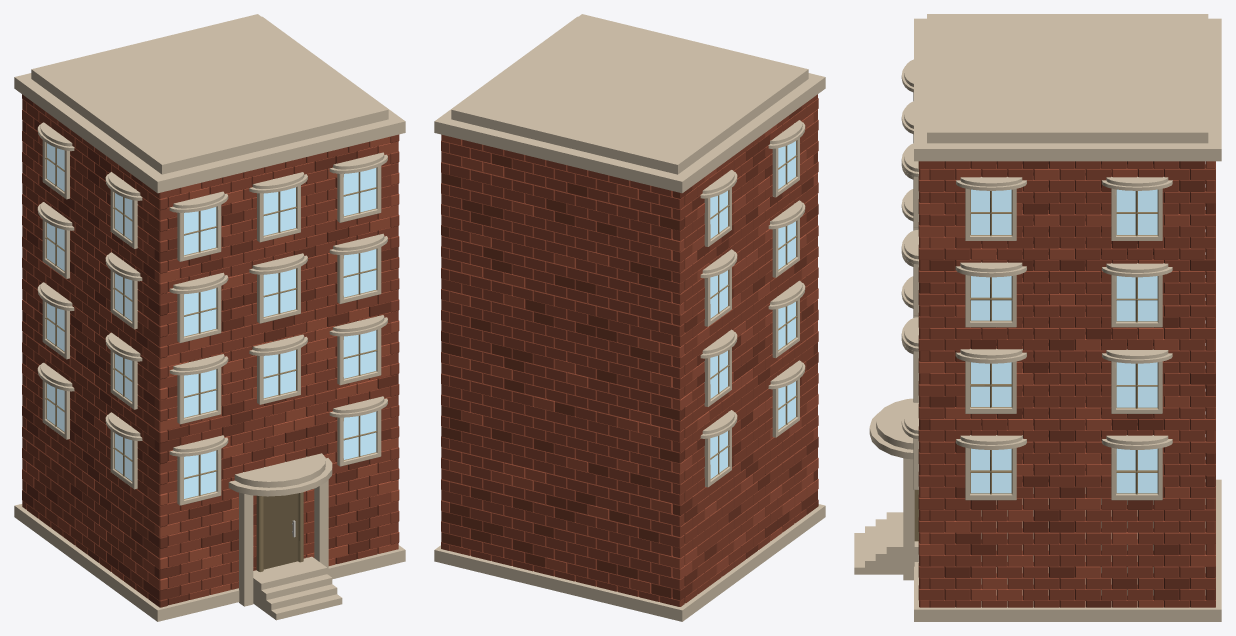
Rendered from predio.glb.
3 views of the same model, side by side, from view 1: azimuth 30°, elevation 25°; view 2: azimuth 150°, elevation 25°; view 3: azimuth 270°, elevation 25° (orthographic). The views are drawn at different scales.
Visible parts, largest first — view 1: pCube1158, pCube1140, polySurface1964, pCube1134, pCube1138, pCylinder5, pCube1142, pCube1145, pCube1151, pCube1143, pCube1147, pCube1148 (+7 smaller); view 2: pCube1140, pCube1158, polySurface1964; view 3: pCube1158, pCube1140, polySurface1947, polySurface1939, polySurface1943, polySurface1949, polySurface1946, polySurface1948, polySurface1950, polySurface1951, pCube1134, polySurface1955 (+9 smaller).
Boxes of the visible parts, left/top/right/bottom form: pCube1158: left=14, top=14, right=405, bottom=618; pCube1140: left=14, top=70, right=405, bottom=621; polySurface1964: left=37, top=122, right=142, bottom=489; pCube1134: left=253, top=556, right=342, bottom=620; pCube1138: left=256, top=492, right=303, bottom=571; pCylinder5: left=228, top=453, right=332, bottom=496; pCube1142: left=169, top=191, right=228, bottom=261; pCube1145: left=169, top=272, right=228, bottom=343; pCube1151: left=169, top=435, right=228, bottom=505; pCube1143: left=329, top=152, right=387, bottom=222; pCube1147: left=329, top=233, right=387, bottom=304; pCube1148: left=169, top=354, right=228, bottom=424; pCube1140: left=434, top=71, right=825, bottom=621; pCube1158: left=434, top=14, right=825, bottom=617; polySurface1964: left=700, top=120, right=805, bottom=487; pCube1158: left=914, top=14, right=1221, bottom=617; pCube1140: left=914, top=133, right=1221, bottom=621; polySurface1947: left=1102, top=263, right=1172, bottom=327; polySurface1939: left=956, top=177, right=1026, bottom=240; polySurface1943: left=1101, top=177, right=1172, bottom=240; polySurface1949: left=1102, top=349, right=1172, bottom=413; polySurface1946: left=955, top=264, right=1026, bottom=327; polySurface1948: left=955, top=350, right=1026, bottom=413; polySurface1950: left=955, top=436, right=1026, bottom=500; polySurface1951: left=1101, top=437, right=1172, bottom=500; pCube1134: left=854, top=512, right=918, bottom=574; polySurface1955: left=955, top=262, right=1026, bottom=326.
Size of the model in its own units: 0.2937 by 0.4754 by 0.3264.
